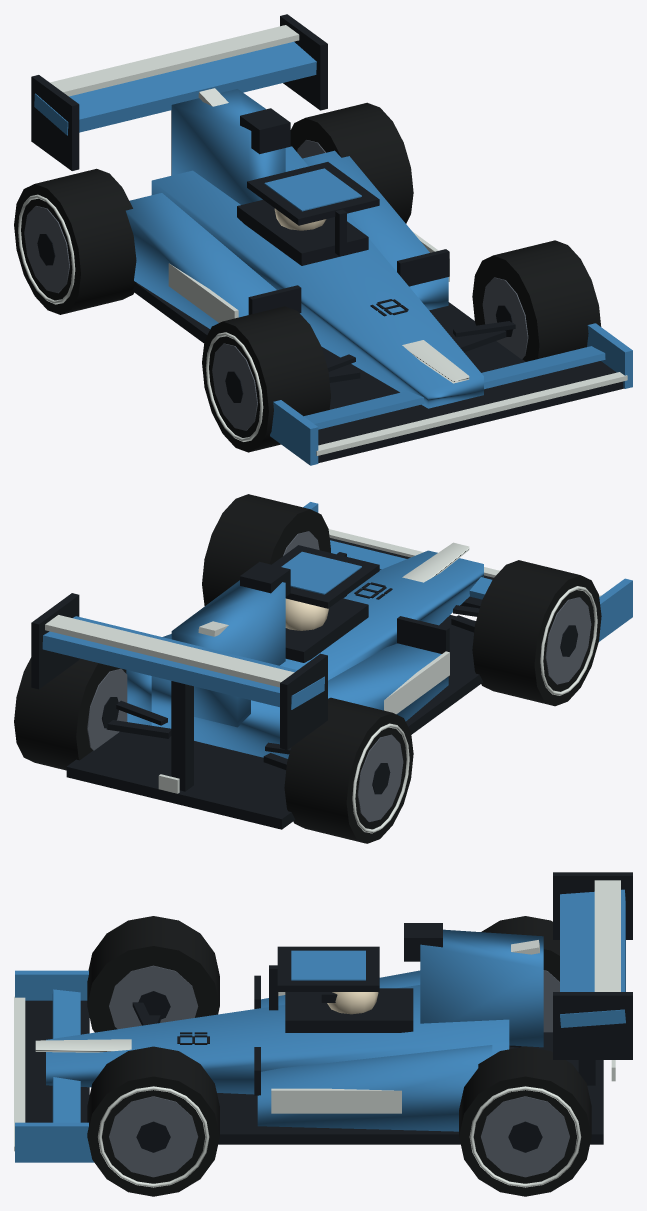
The model's file is azure-18.glb.
The picture shows the model from 3 angles, top to bottom: view 1: azimuth 30°, elevation 25°; view 2: azimuth 150°, elevation 25°; view 3: azimuth 270°, elevation 25°; orthographic projection.
Visible parts, largest first — view 1: formula-18, wheel (×4); view 2: formula-18, wheel (×4); view 3: formula-18, wheel (×4).
Boxes of the visible parts, x1,y1,x2,y2 form: formula-18: (31, 14, 632, 465); wheel (×4): (14, 102, 601, 452); formula-18: (31, 502, 632, 829); wheel (×4): (14, 494, 601, 843); formula-18: (14, 872, 632, 1162); wheel (×4): (87, 916, 591, 1196).
Bounding box in the file's own units: 3.37 × 1.79 × 5.41.
